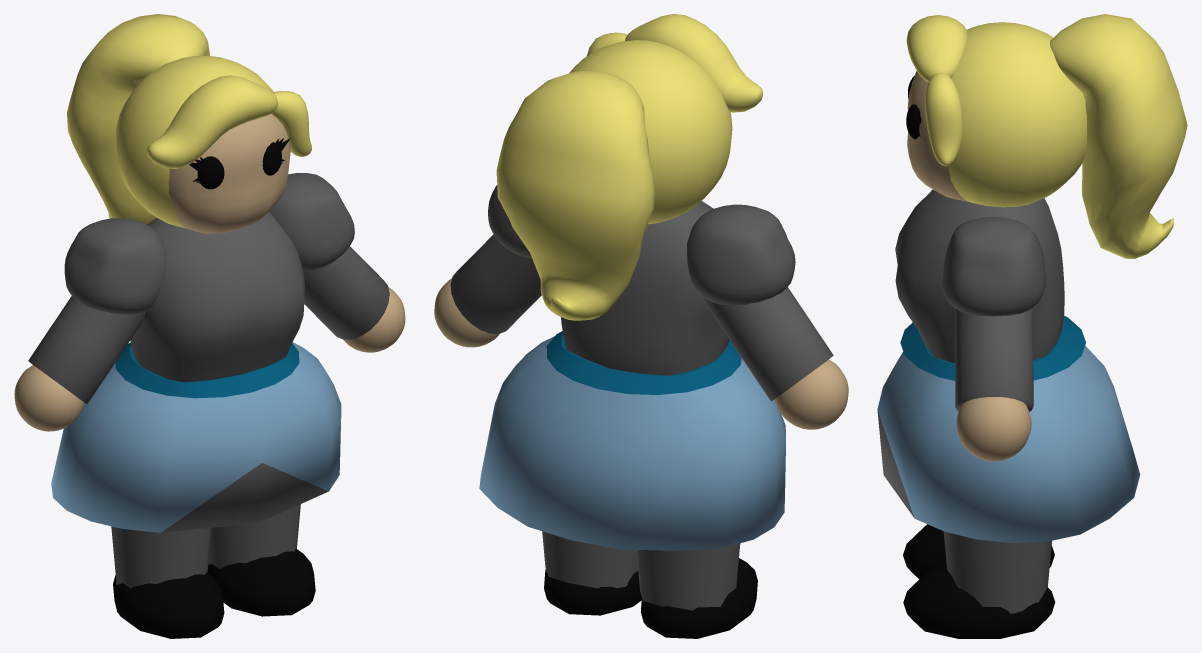
File: withc with textures.fbx
3 views of the same model, side by side, from view 1: azimuth 30°, elevation 25°; view 2: azimuth 150°, elevation 25°; view 3: azimuth 270°, elevation 25° (orthographic). The views are drawn at different scales.
Visible parts, largest first — view 1: Skirt, Hair5, Torso, pasted__Head, pasted__LShoulder, pasted__LArm, LFoot, pasted__RShoulder, pasted__RArm, RFoot, LLeg, Belt (+4 smaller); view 2: Hair5, Skirt, Torso, pasted__LShoulder, pasted__LArm, pasted__RArm, LLeg, Belt, LFoot, RLeg, pasted__LHand, RFoot (+2 smaller); view 3: Hair5, Skirt, Torso, pasted__RShoulder, pasted__RArm, RLeg, RFoot, pasted__RHand, Belt, pasted__Head, LFoot, Eye.
Boxes of the visible parts, bbox=[...] form: Skirt: bbox=[51, 342, 341, 532]; Hair5: bbox=[67, 14, 311, 228]; Torso: bbox=[130, 212, 305, 382]; pasted__Head: bbox=[168, 114, 290, 233]; pasted__LShoulder: bbox=[64, 218, 166, 314]; pasted__LArm: bbox=[28, 296, 145, 404]; LFoot: bbox=[113, 572, 224, 638]; pasted__RShoulder: bbox=[269, 173, 354, 271]; pasted__RArm: bbox=[303, 246, 389, 339]; RFoot: bbox=[207, 548, 315, 616]; LLeg: bbox=[111, 526, 211, 588]; Belt: bbox=[115, 342, 299, 398]; Hair5: bbox=[496, 14, 762, 320]; Skirt: bbox=[479, 336, 785, 550]; Torso: bbox=[561, 201, 729, 375]; pasted__LShoulder: bbox=[687, 204, 795, 305]; pasted__LArm: bbox=[704, 287, 833, 401]; pasted__RArm: bbox=[450, 234, 541, 333]; LLeg: bbox=[636, 543, 740, 610]; Belt: bbox=[546, 331, 741, 394]; LFoot: bbox=[640, 558, 757, 638]; RLeg: bbox=[542, 531, 638, 588]; pasted__LHand: bbox=[775, 359, 848, 429]; RFoot: bbox=[544, 569, 641, 615]; Hair5: bbox=[906, 14, 1187, 258]; Skirt: bbox=[877, 345, 1140, 542]; Torso: bbox=[895, 189, 1064, 362]; pasted__RShoulder: bbox=[942, 217, 1045, 316]; pasted__RArm: bbox=[955, 307, 1033, 411]; RLeg: bbox=[943, 531, 1051, 613]; RFoot: bbox=[903, 564, 1055, 638]; pasted__RHand: bbox=[956, 397, 1031, 461]; Belt: bbox=[900, 315, 1085, 380]; pasted__Head: bbox=[907, 71, 969, 202]; LFoot: bbox=[903, 524, 1054, 579]; Eye: bbox=[906, 76, 921, 139].
Bounding box in the file's own units: 5.75 × 7.75 × 3.8.
